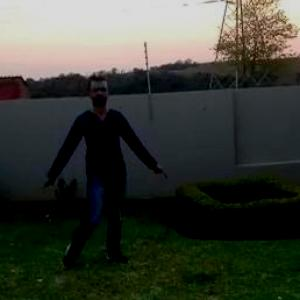land: (25, 64, 162, 292)
